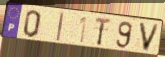0: (22, 9, 43, 40)
1: (79, 16, 88, 44)
9: (115, 20, 133, 49)
I: (56, 12, 66, 43)
T: (94, 16, 112, 47)
V: (137, 21, 161, 53)
